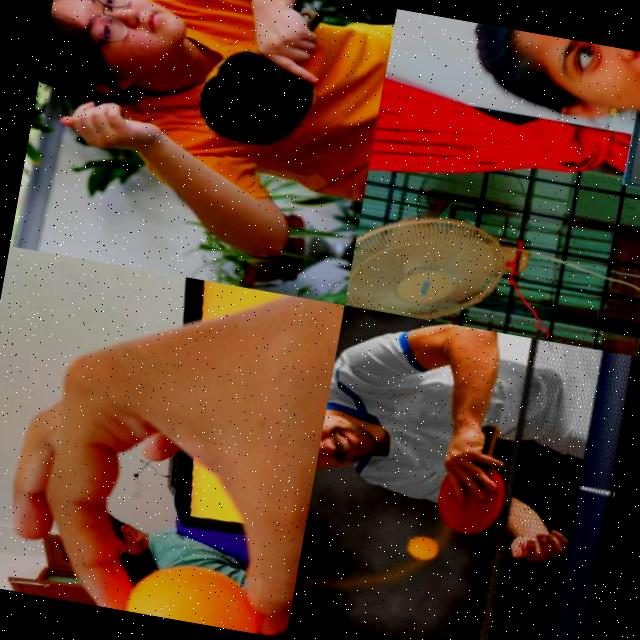ping-pong-ball: (124, 556, 264, 634), (403, 534, 438, 558)
